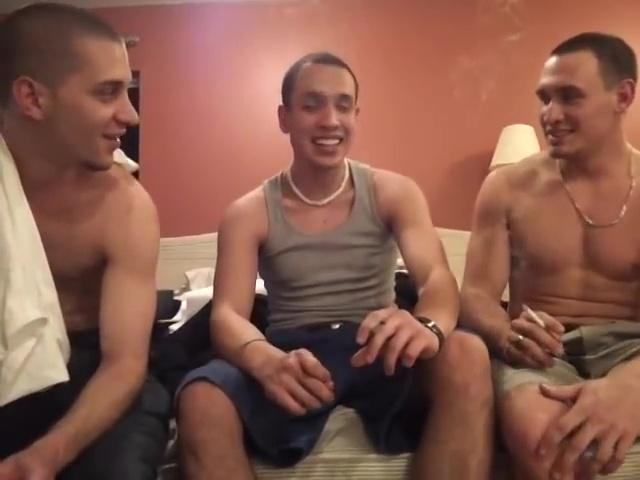cigarette: (522, 305, 551, 330)
